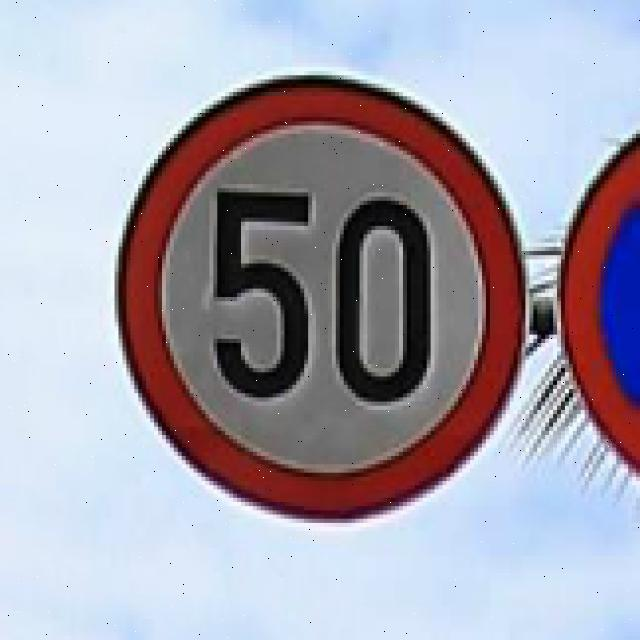speed limit 50: (112, 74, 524, 527)
